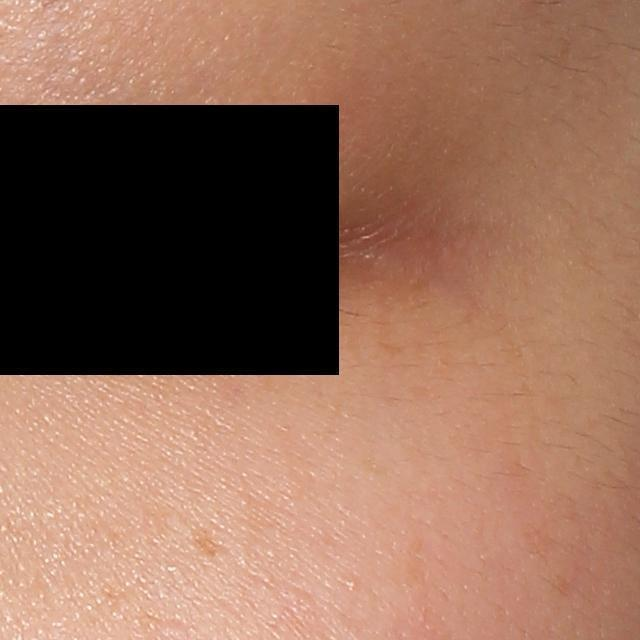melasma: (187, 526, 238, 560)
